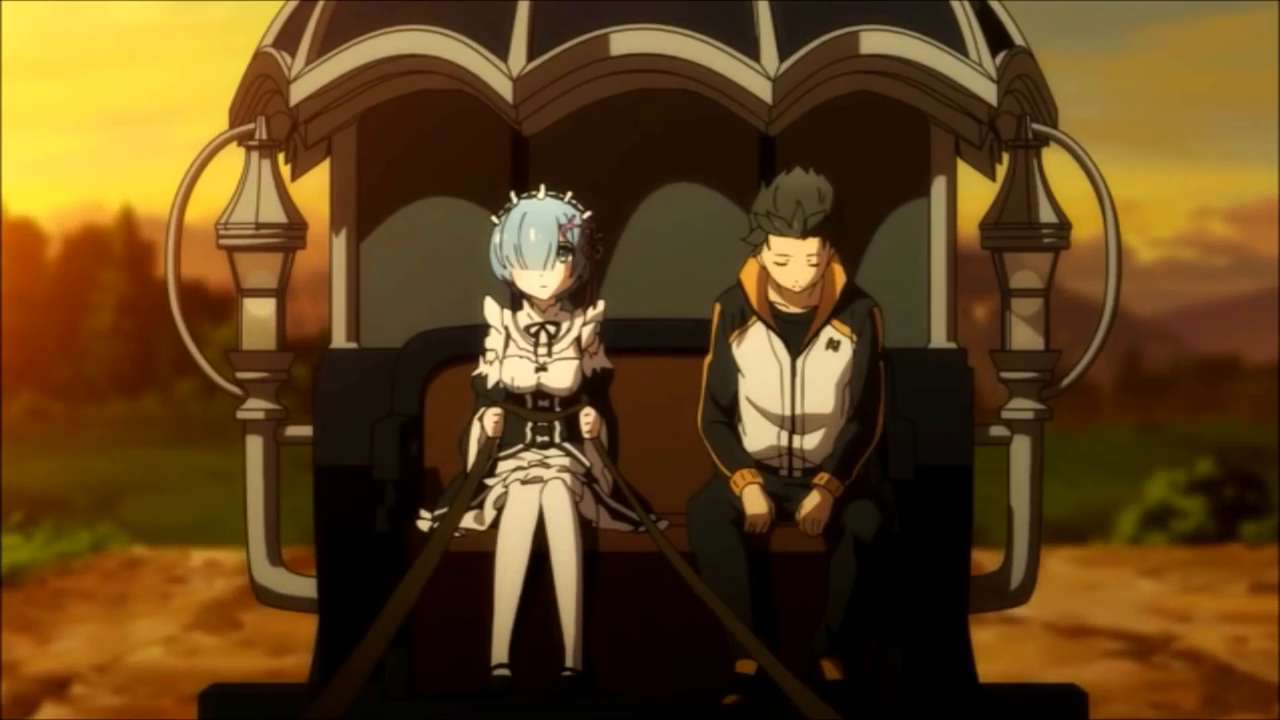REM: (480, 183, 609, 307)
